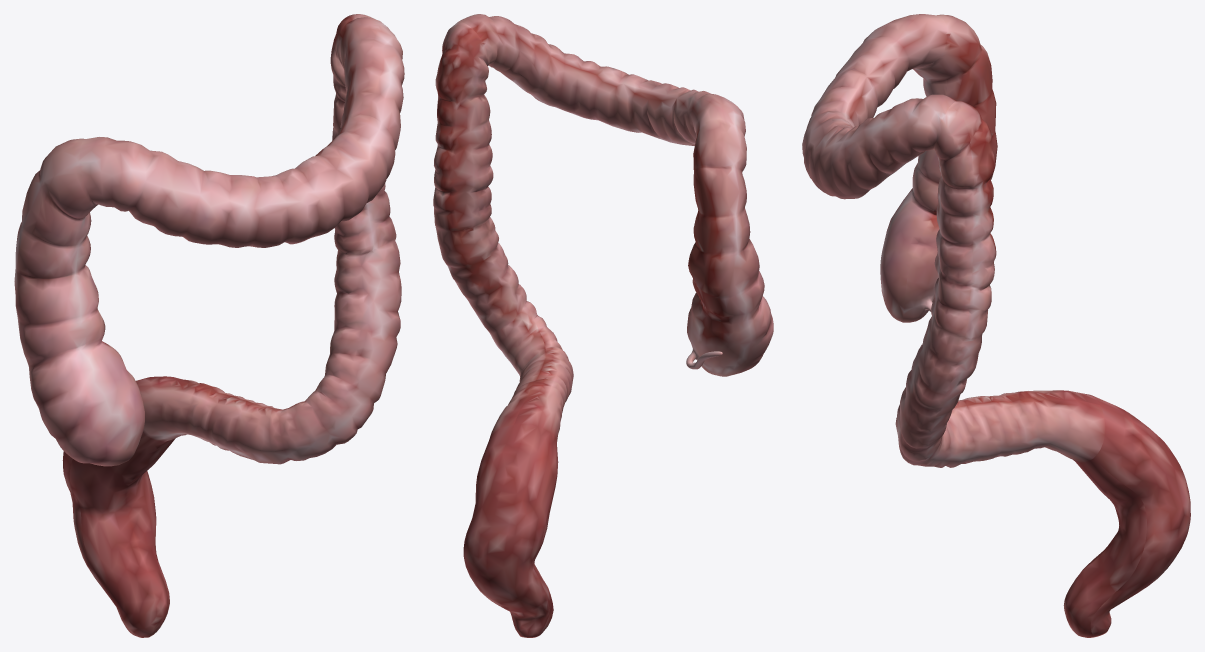
File: colon_rectum_cancer.glb
3 renders of one model, left to right at view 1: azimuth 30°, elevation 25°; view 2: azimuth 150°, elevation 25°; view 3: azimuth 270°, elevation 25°, orthographic. The views are drawn at different scales.
Parts seen in each view (by area): view 1: Transverse Colon (Anterior) [S01949], Sigmoid Colon (Anterior) [S01969], Ascending Colon (Anterior) [S01941], Cecum (Anterior) [S01992], Rectum (Right) [S01996], Transverse Colon (Posterior) [S01956], Ascending Colon (Posterior) [S01939], Rectum (Left) [S01997], Sigmoid Colon (Posterior) [S01962], Descending Colon (Anterior) [S01973], Descending Colon (Posterior) [S01980], Anal Canal (Right) [S01933]; view 2: Transverse Colon (Posterior) [S01956], Descending Colon (Posterior) [S01980], Ascending Colon (Posterior) [S01939], Sigmoid Colon (Posterior) [S01962], Rectum (Right) [S01996], Rectum (Left) [S01997], Cecum (Posterior) [S01981], Sigmoid Colon (Anterior) [S01969], Ascending Colon (Anterior) [S01941], Anal Canal (Right) [S01933]; view 3: Rectum (Left) [S01997], Sigmoid Colon (Posterior) [S01962], Transverse Colon (Anterior) [S01949], Transverse Colon (Posterior) [S01956], Descending Colon (Anterior) [S01973], Descending Colon (Posterior) [S01980], Sigmoid Colon (Anterior) [S01969], Ascending Colon (Posterior) [S01939], Cecum (Anterior) [S01992], Cecum (Posterior) [S01981], Ascending Colon (Anterior) [S01941], Anal Canal (Left) [S01929].
Part boxes in pixels (x1,y1,x2,y2): Transverse Colon (Anterior) [S01949]: [80, 24, 404, 247]; Sigmoid Colon (Anterior) [S01969]: [137, 241, 401, 464]; Ascending Colon (Anterior) [S01941]: [22, 168, 105, 359]; Cecum (Anterior) [S01992]: [31, 337, 144, 466]; Rectum (Right) [S01996]: [62, 380, 164, 613]; Transverse Colon (Posterior) [S01956]: [79, 17, 384, 183]; Ascending Colon (Posterior) [S01939]: [14, 138, 84, 359]; Rectum (Left) [S01997]: [126, 379, 175, 611]; Sigmoid Colon (Posterior) [S01962]: [141, 250, 348, 438]; Descending Colon (Anterior) [S01973]: [340, 27, 396, 254]; Descending Colon (Posterior) [S01980]: [330, 14, 385, 253]; Anal Canal (Right) [S01933]: [117, 608, 156, 637]; Transverse Colon (Posterior) [S01956]: [458, 14, 737, 145]; Descending Colon (Posterior) [S01980]: [433, 22, 493, 231]; Ascending Colon (Posterior) [S01939]: [688, 119, 761, 317]; Sigmoid Colon (Posterior) [S01962]: [435, 218, 552, 437]; Rectum (Right) [S01996]: [487, 424, 558, 618]; Rectum (Left) [S01997]: [463, 424, 527, 615]; Cecum (Posterior) [S01981]: [687, 292, 767, 376]; Sigmoid Colon (Anterior) [S01969]: [489, 217, 573, 441]; Ascending Colon (Anterior) [S01941]: [738, 127, 764, 301]; Anal Canal (Right) [S01933]: [521, 612, 553, 637]; Rectum (Left) [S01997]: [1064, 397, 1190, 617]; Sigmoid Colon (Posterior) [S01962]: [925, 334, 1105, 467]; Transverse Colon (Anterior) [S01949]: [802, 22, 941, 199]; Transverse Colon (Posterior) [S01956]: [827, 14, 956, 130]; Descending Colon (Anterior) [S01973]: [931, 120, 973, 338]; Descending Colon (Posterior) [S01980]: [942, 101, 996, 338]; Sigmoid Colon (Anterior) [S01969]: [895, 316, 1094, 467]; Ascending Colon (Posterior) [S01939]: [926, 14, 997, 211]; Cecum (Anterior) [S01992]: [880, 188, 934, 322]; Cecum (Posterior) [S01981]: [902, 211, 939, 322]; Ascending Colon (Anterior) [S01941]: [912, 66, 946, 210]; Anal Canal (Left) [S01929]: [1064, 606, 1111, 637].
Bounding box in the file's own units: 7.93 × 12.85 × 7.47.
